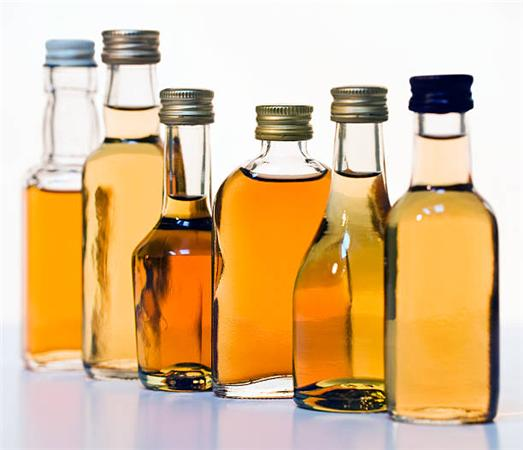alcohol: (387, 69, 500, 424), (213, 105, 330, 401), (290, 81, 392, 415), (81, 29, 167, 385), (133, 87, 221, 395), (23, 36, 100, 373)
